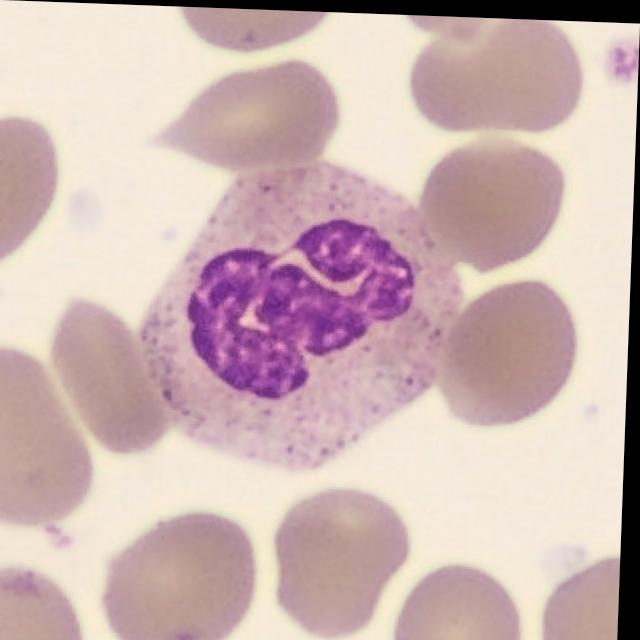Neutrofilo segmentado: (143, 156, 464, 468)
